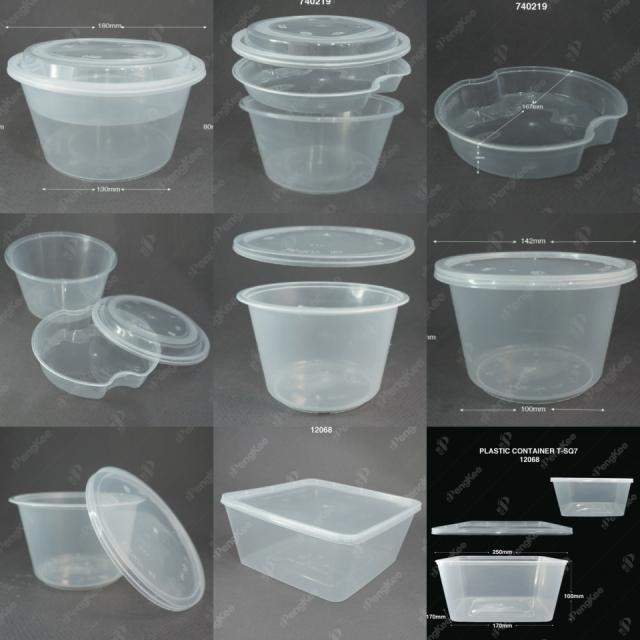Single-Use-Plastic: (434, 251, 636, 404), (8, 38, 206, 181), (221, 479, 421, 602), (236, 281, 409, 412), (435, 66, 628, 179), (86, 468, 205, 611), (240, 95, 404, 194), (9, 491, 144, 589), (30, 305, 162, 400), (3, 230, 118, 322), (232, 58, 410, 114), (232, 15, 410, 68), (91, 294, 212, 367), (436, 556, 568, 622), (232, 225, 415, 268), (550, 478, 634, 516), (431, 521, 572, 536)
